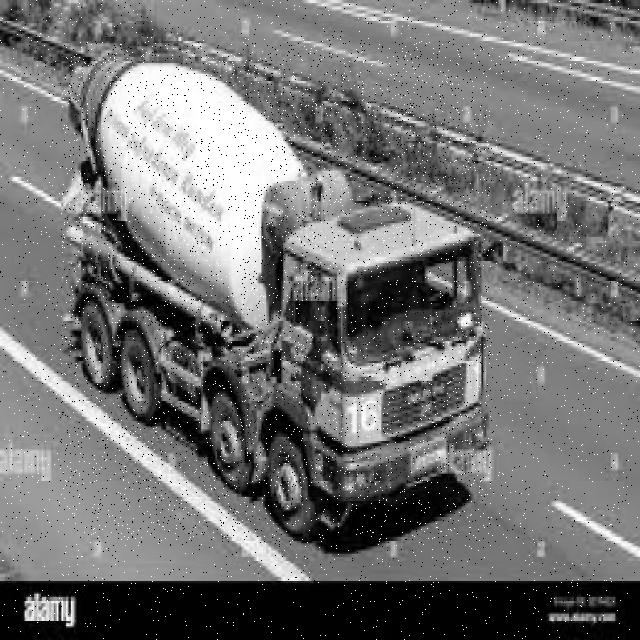Concrete Mixer: (60, 41, 492, 543)
